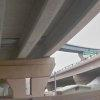Bridge: (4, 1, 88, 90)
